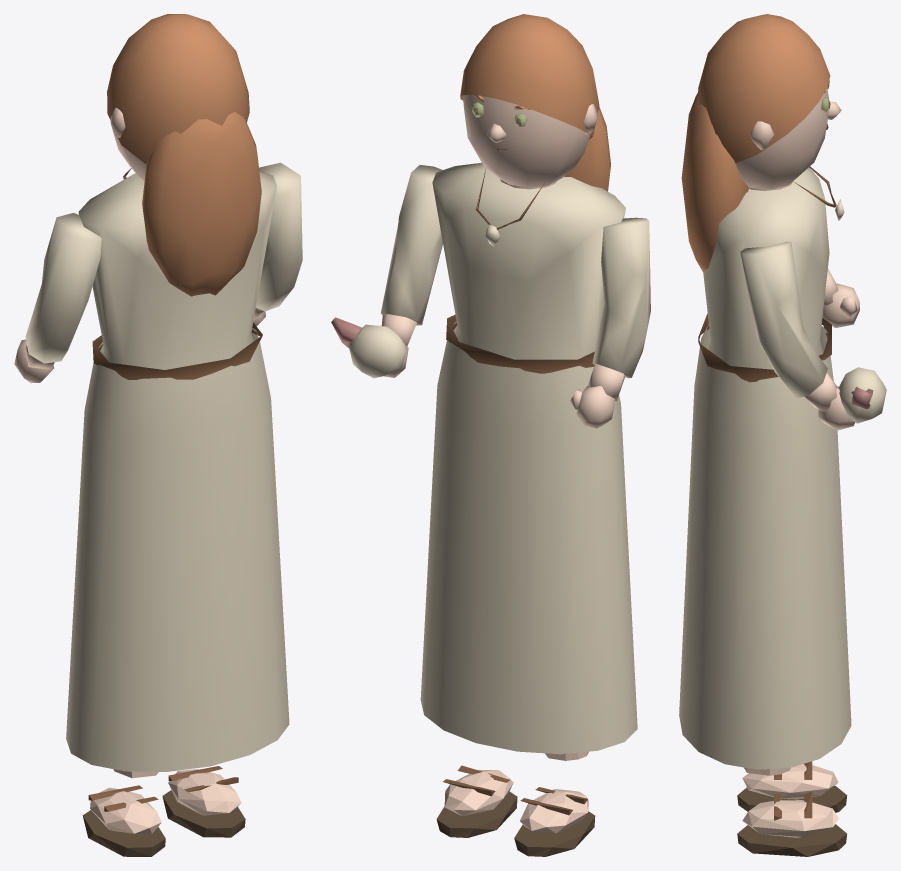
The model's file is SM_NPC_CORAL_ROSA_MEDIA.glb.
3 renders of one model, left to right at view 1: azimuth 30°, elevation 25°; view 2: azimuth 150°, elevation 25°; view 3: azimuth 270°, elevation 25°, orthographic. The views are drawn at different scales.
Visible parts, largest first — view 1: SM_NPC_CORAL_ROSA_BODY, SM_NPC_CORAL_ROSA_HEAD, SM_NPC_CORAL_ROSA_ARM_L, SM_NPC_CORAL_ROSA_ARM_R; view 2: SM_NPC_CORAL_ROSA_BODY, SM_NPC_CORAL_ROSA_HEAD, SM_NPC_CORAL_ROSA_ARM_R, SM_NPC_CORAL_ROSA_ARM_L; view 3: SM_NPC_CORAL_ROSA_BODY, SM_NPC_CORAL_ROSA_HEAD, SM_NPC_CORAL_ROSA_ARM_R, SM_NPC_CORAL_ROSA_ARM_L.
Part boxes in pixels (x1,y1,x2,y2): SM_NPC_CORAL_ROSA_BODY: [66, 168, 289, 856]; SM_NPC_CORAL_ROSA_HEAD: [107, 14, 261, 296]; SM_NPC_CORAL_ROSA_ARM_L: [14, 213, 101, 383]; SM_NPC_CORAL_ROSA_ARM_R: [253, 162, 302, 326]; SM_NPC_CORAL_ROSA_BODY: [420, 162, 637, 856]; SM_NPC_CORAL_ROSA_HEAD: [460, 14, 610, 191]; SM_NPC_CORAL_ROSA_ARM_R: [331, 165, 442, 378]; SM_NPC_CORAL_ROSA_ARM_L: [570, 217, 650, 428]; SM_NPC_CORAL_ROSA_BODY: [679, 166, 851, 856]; SM_NPC_CORAL_ROSA_HEAD: [681, 14, 841, 273]; SM_NPC_CORAL_ROSA_ARM_R: [740, 241, 886, 430]; SM_NPC_CORAL_ROSA_ARM_L: [822, 269, 859, 327].
Bounding box in the file's own units: 0.6569 × 1.81 × 0.4239.
